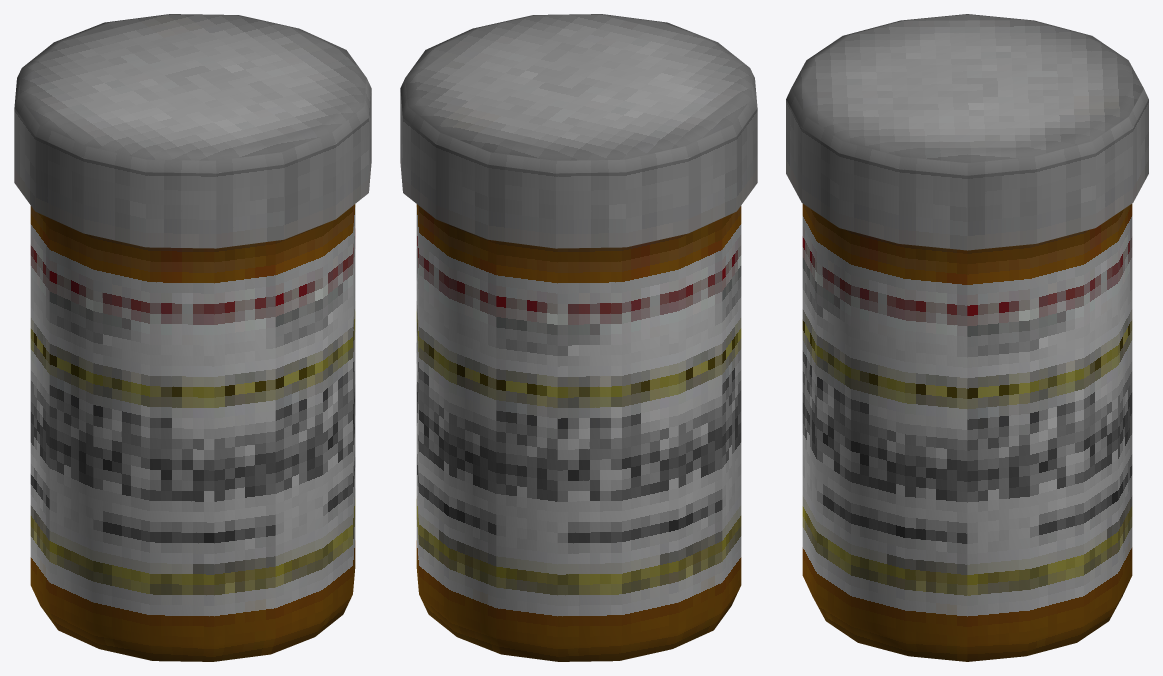
The model's file is pills_bottle_1.obj.
3 views of the same model, side by side, from view 1: azimuth 30°, elevation 25°; view 2: azimuth 150°, elevation 25°; view 3: azimuth 270°, elevation 25° (orthographic).
Visible parts, largest first — view 1: pills_bottle_1; view 2: pills_bottle_1; view 3: pills_bottle_1.
Part boxes in pixels (x1,y1,x2,y2): pills_bottle_1: (14, 14, 371, 661); pills_bottle_1: (400, 14, 757, 661); pills_bottle_1: (786, 14, 1148, 661).
Size of the model in its own units: 2.66 by 4.22 by 2.66.
Materials: 1 (1 with a texture image).
